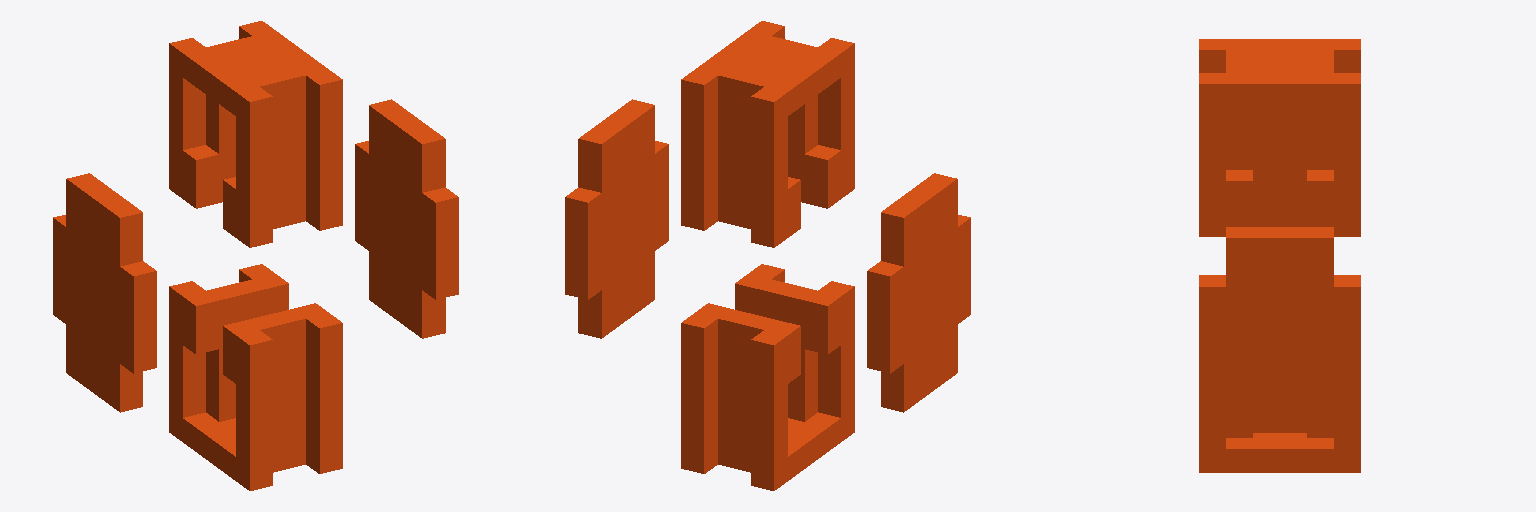
3 renders of one model, left to right at view 1: azimuth 30°, elevation 25°; view 2: azimuth 150°, elevation 25°; view 3: azimuth 270°, elevation 25°, orthographic.
Parts seen in each view (by area): view 1: 强蓝光; view 2: 强蓝光; view 3: 强蓝光.
Boxes of the visible parts, x1,y1,x2,y2 form: 强蓝光: [53, 21, 458, 490]; 强蓝光: [565, 21, 970, 490]; 强蓝光: [1199, 39, 1360, 472].
Bounding box in the file's own units: 14 × 16 × 6.
1 materials, 1 textured.